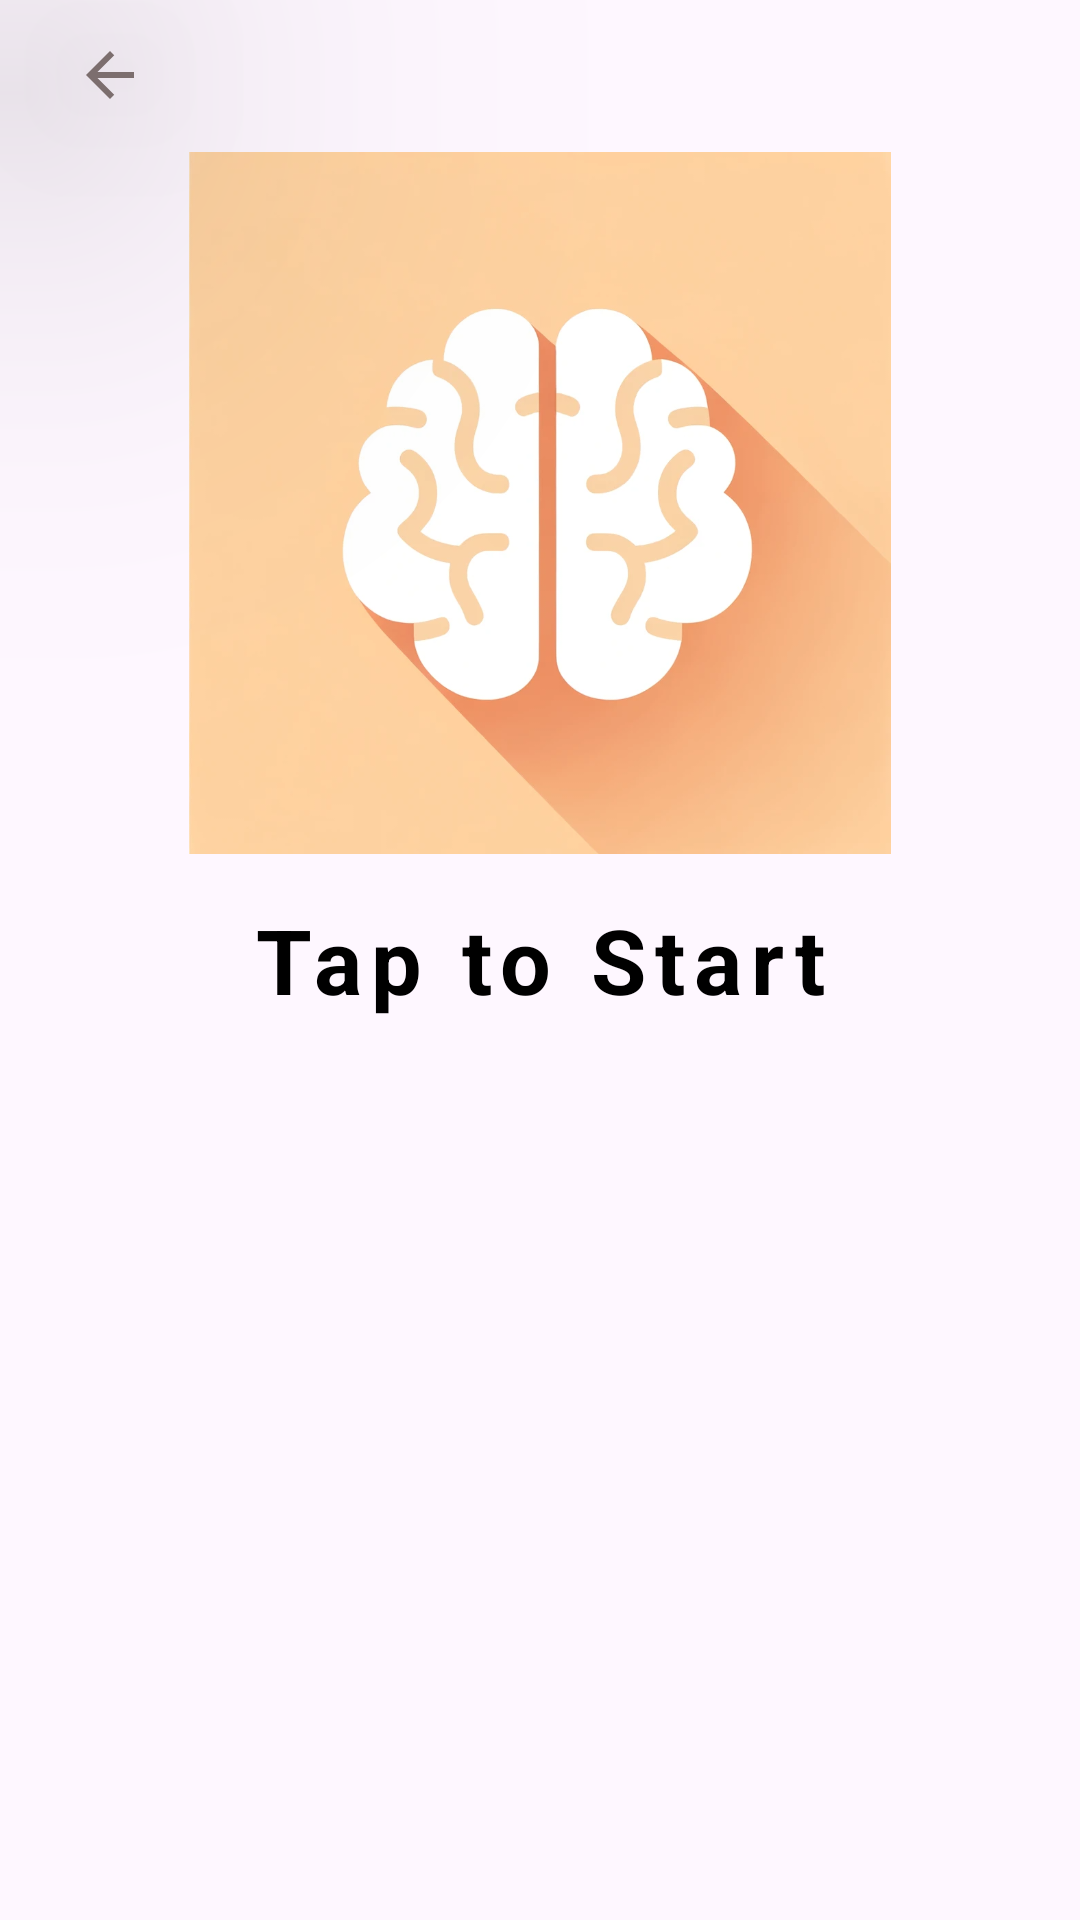

Screen size 1080×1920. Icon name, then its box in pixels as (x1, y1, x2, y2):
arrow back: (86, 51, 134, 99)
